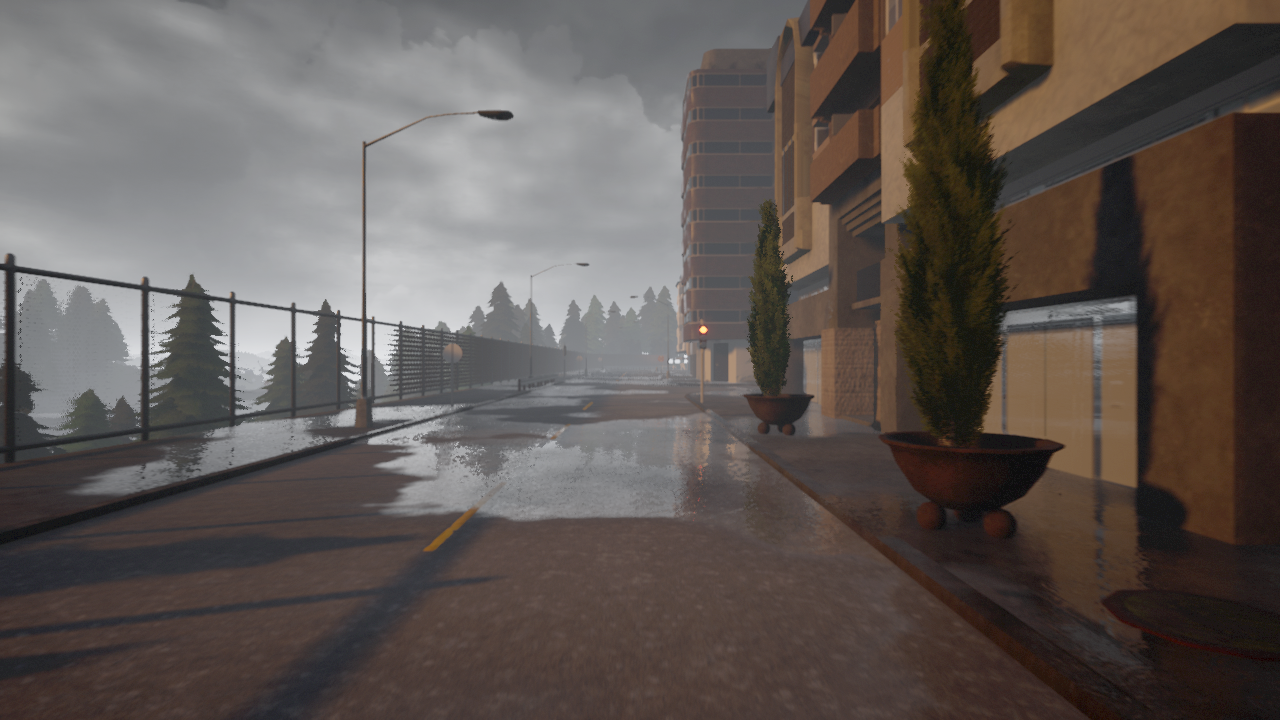red: (699, 323, 708, 348)
